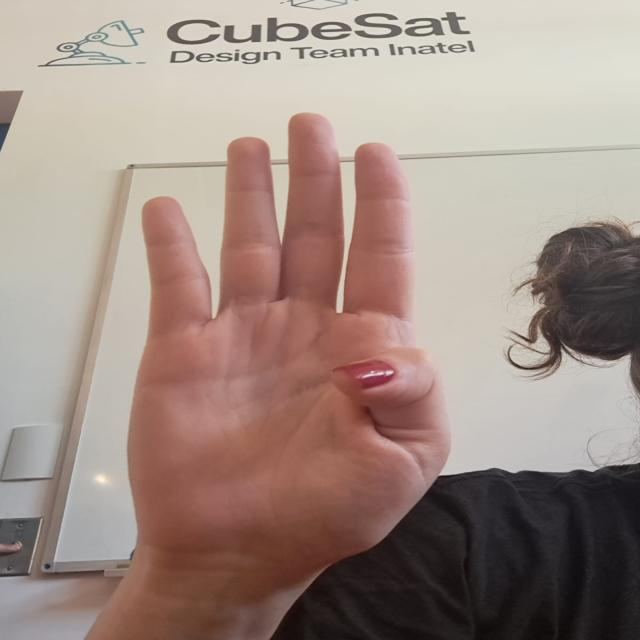B: (101, 102, 459, 580)
